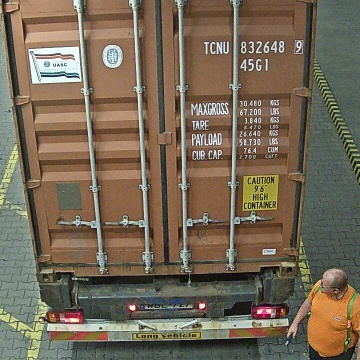serial_id: (204, 40, 303, 54)
